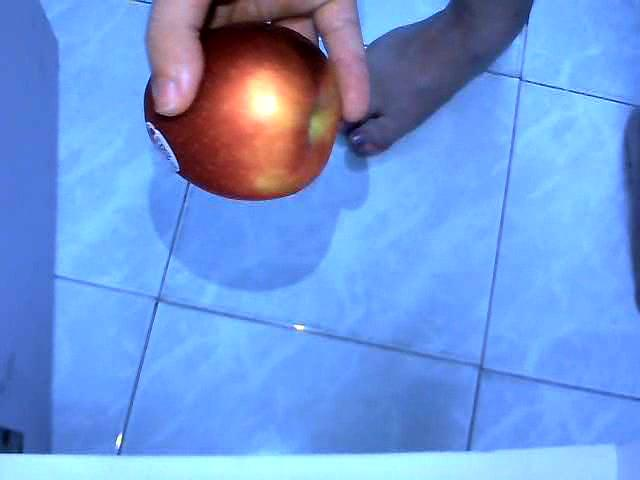apple: (143, 18, 344, 202)
